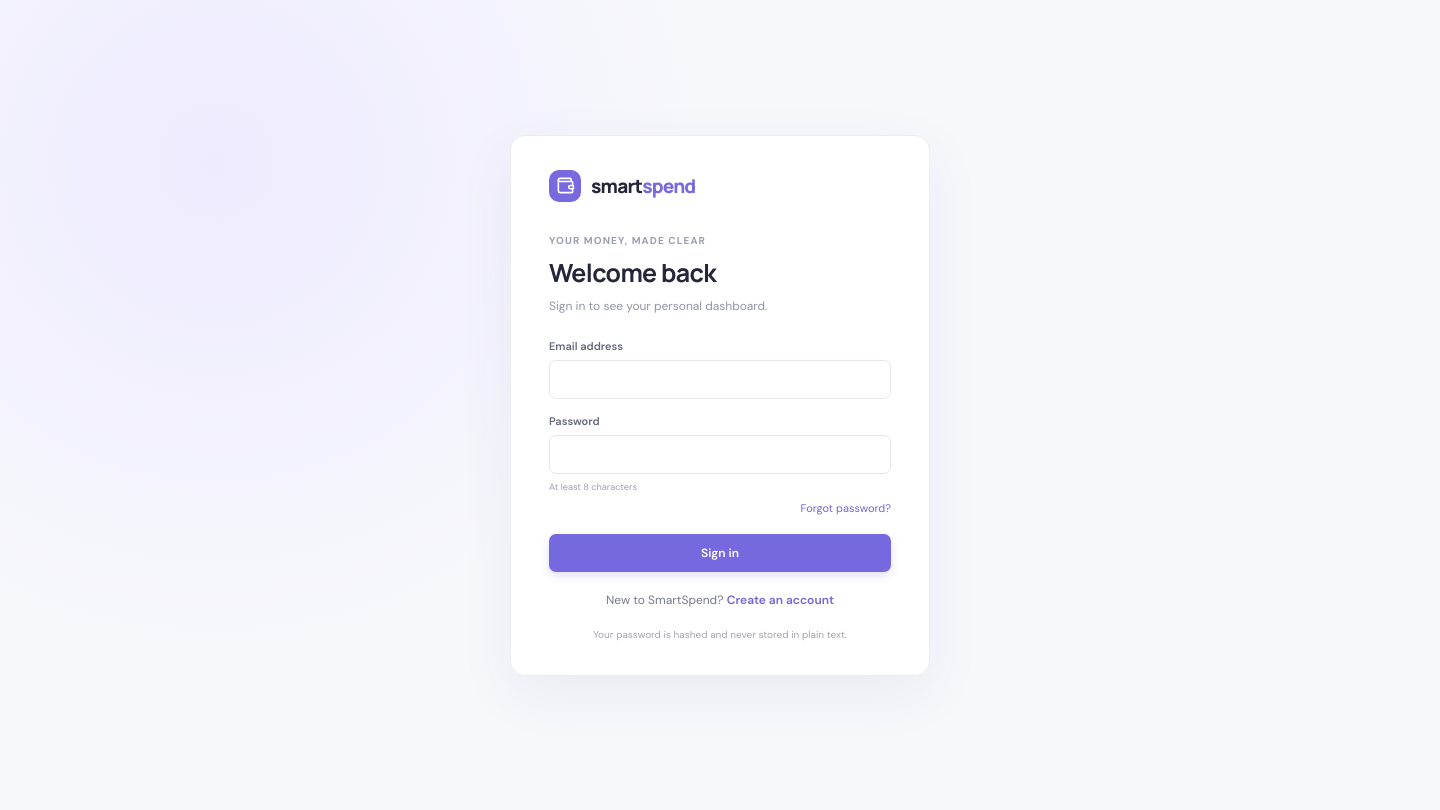
Scenario: SmartSpend authentication screens › keeps a new session when an older request returns an authentication error
Type "alex@example.com" into the field labelled "Email address".
click(720, 379); type("alex@example.com")  # box [549,360,891,398]
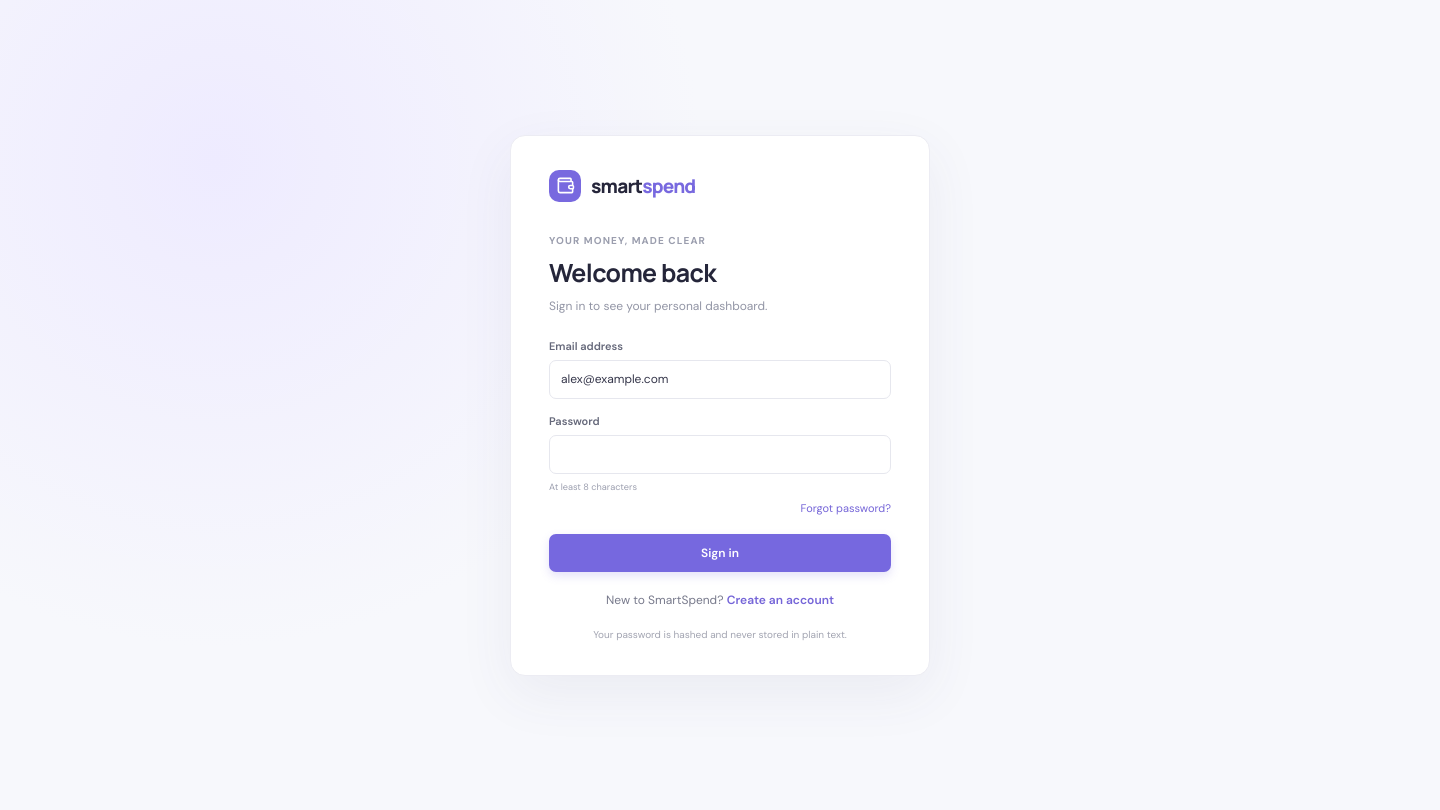
Type "correct horse 71" into the password field labelled "Password At least 8 characters".
click(720, 454); type("correct horse 71")  # box [549,434,891,474]
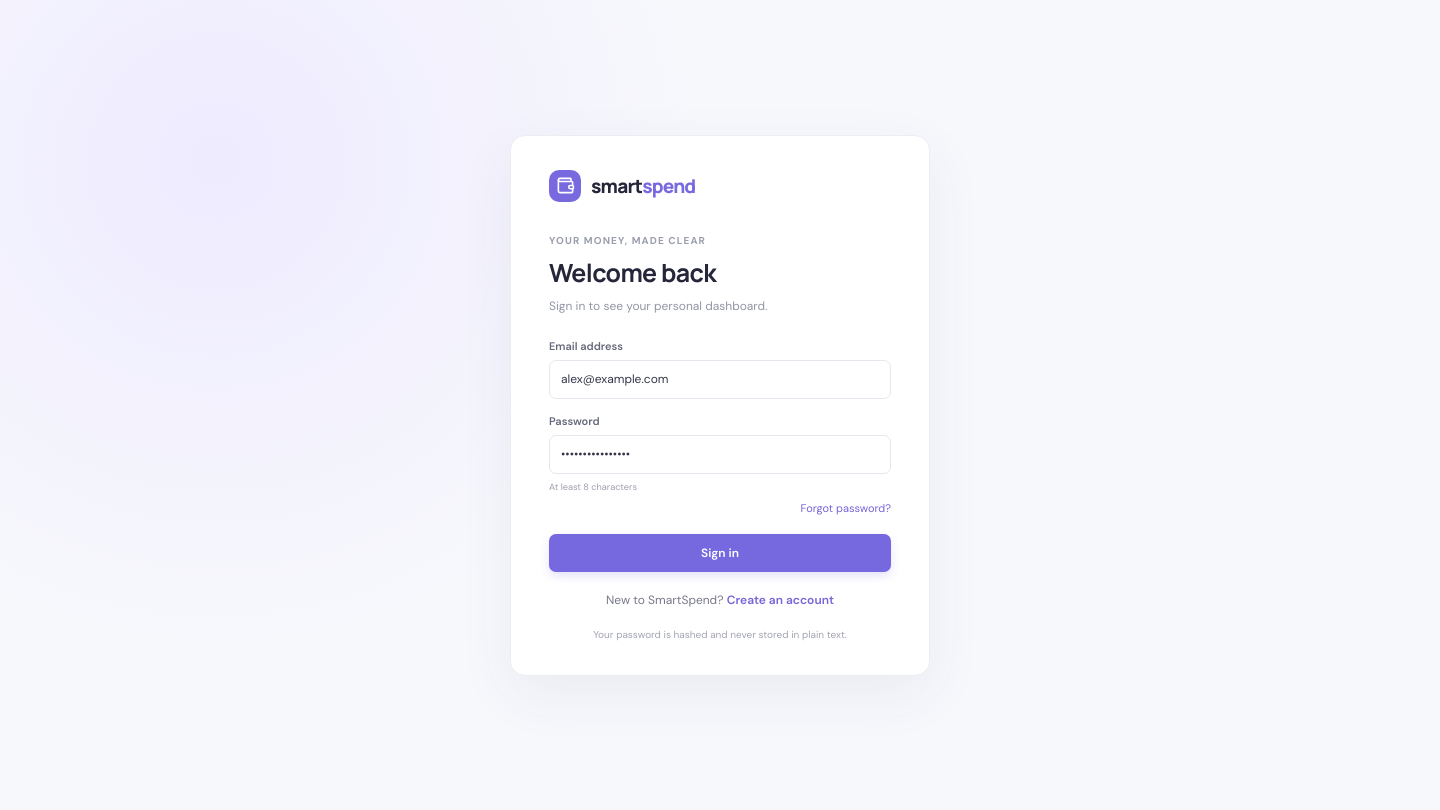
Click the button "Sign in".
click(720, 552)  # box [549,534,891,572]
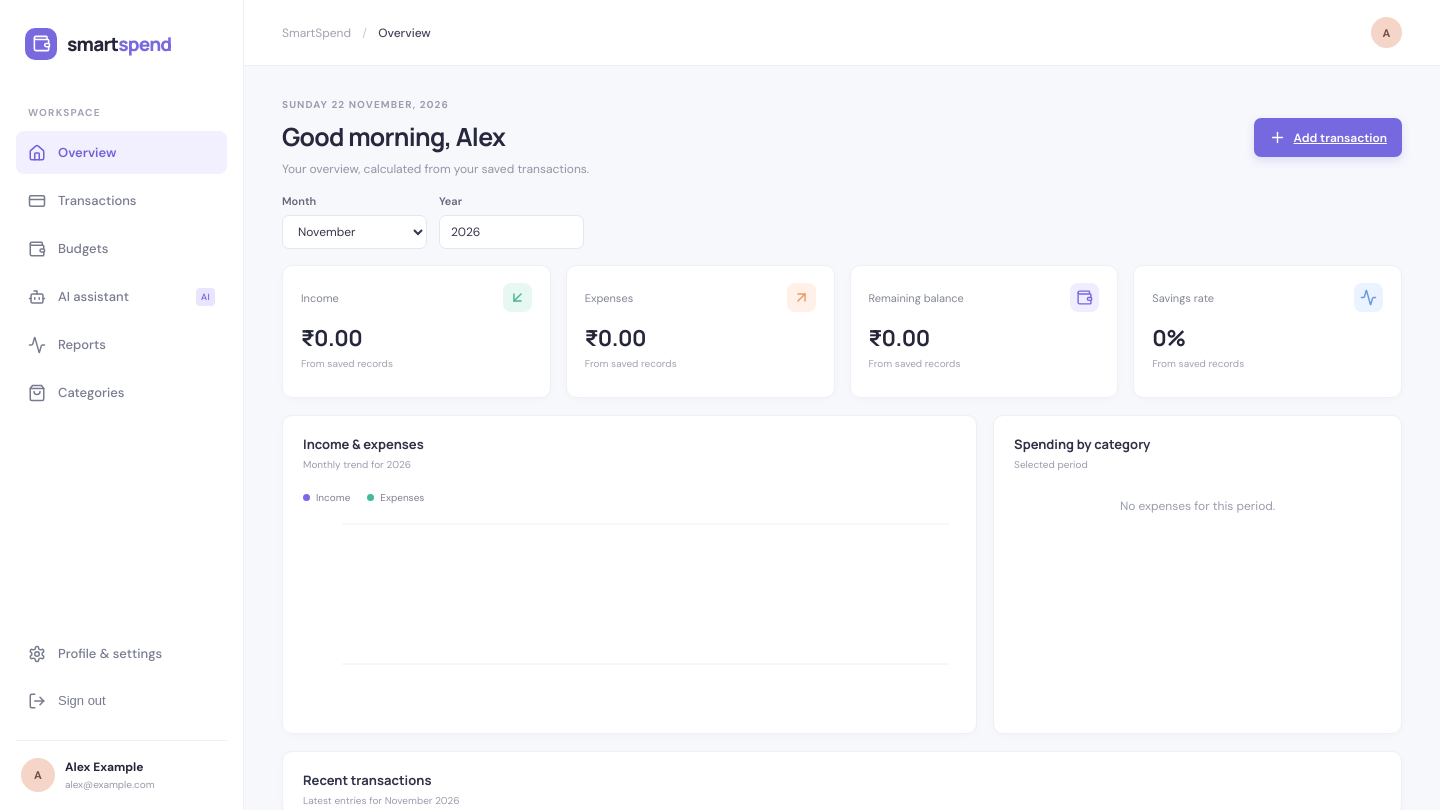
Check: the button "Sign out" is shown, box [16,679,227,722]
